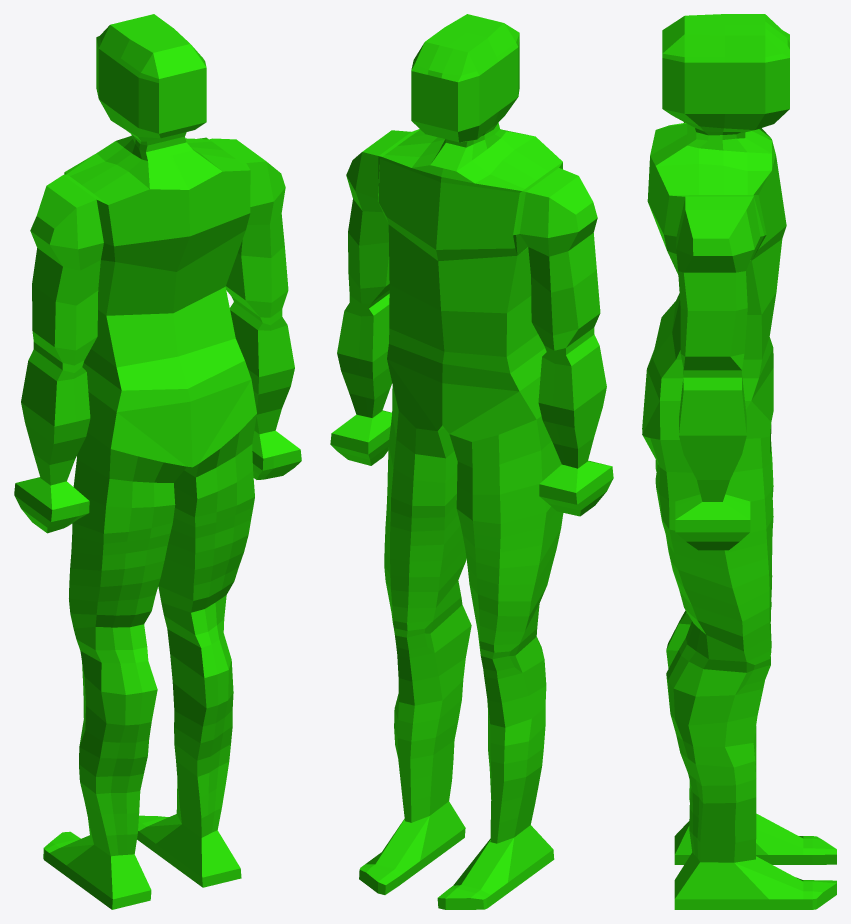
The model's file is JadePlaceholder.fbx.
3 renders of one model, left to right at view 1: azimuth 30°, elevation 25°; view 2: azimuth 150°, elevation 25°; view 3: azimuth 270°, elevation 25°, orthographic. The views are drawn at different scales.
Visible parts, largest first — view 1: Jade; view 2: Jade; view 3: Jade.
Boxes of the visible parts, x1,y1,x2,y2 form: Jade: (14, 14, 301, 909); Jade: (330, 14, 613, 909); Jade: (642, 14, 836, 909).
Bounding box in the file's own units: 103 × 68.35 × 330.
